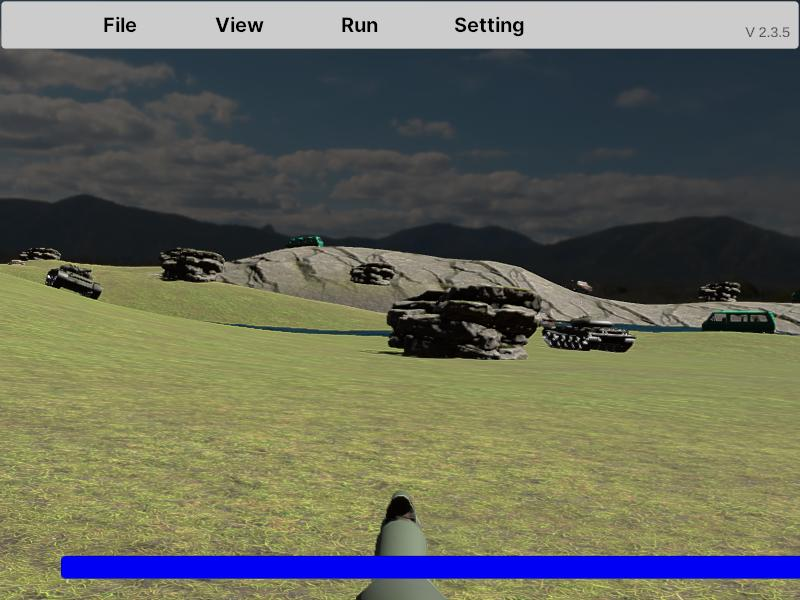Tank: (541, 317, 636, 352), (45, 263, 103, 300), (45, 263, 102, 299)
car: (702, 309, 775, 337)
